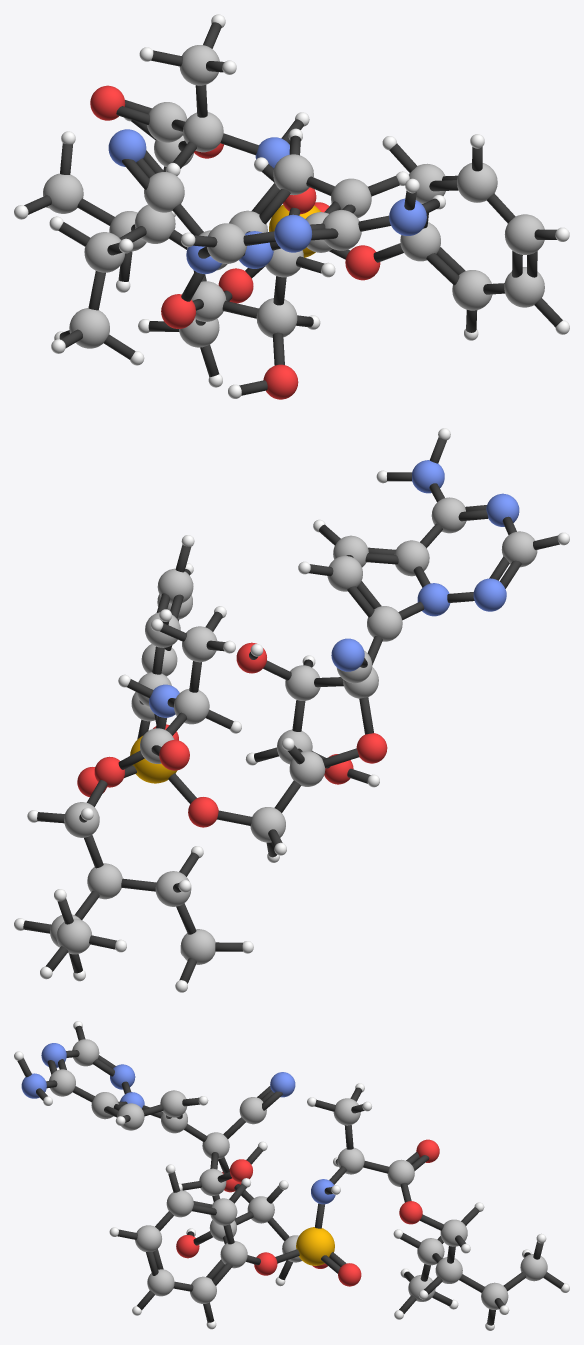
The picture shows the model from 3 angles, top to bottom: view 1: azimuth 30°, elevation 25°; view 2: azimuth 150°, elevation 25°; view 3: azimuth 270°, elevation 25°; orthographic projection. The views are drawn at different scales.
Parts seen in each view (by area): view 1: molecule_2; view 2: molecule_2; view 3: molecule_2.
Boxes of the visible parts, x1,y1,x2,y2 form: molecule_2: (14, 14, 569, 399); molecule_2: (14, 428, 569, 992); molecule_2: (14, 1021, 569, 1330).
Bounding box in the file's own units: 9.75 × 8.59 × 16.28.
